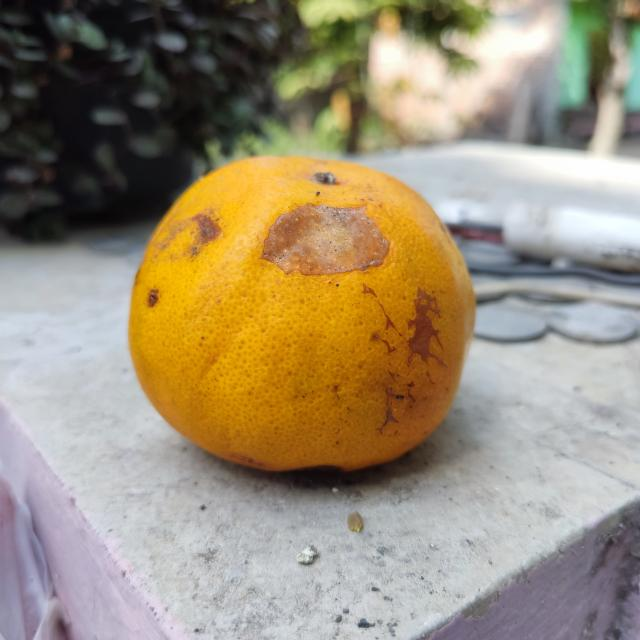orange: (126, 152, 477, 474)
